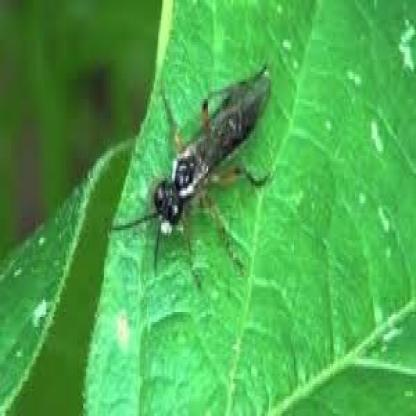sawfly: (114, 56, 277, 279)
